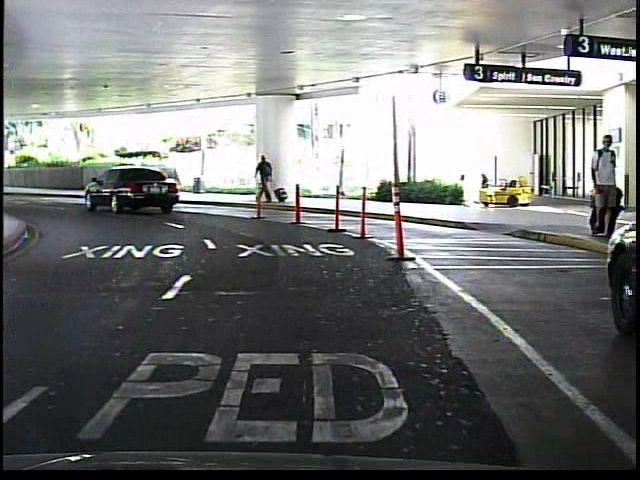person: (584, 127, 624, 246), (254, 151, 279, 207)
